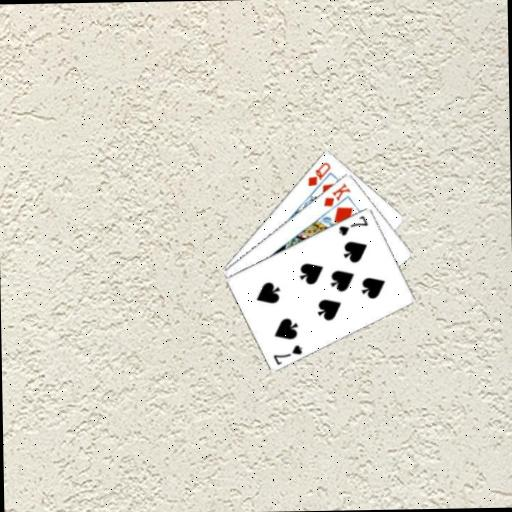7S: (336, 212, 370, 237), (270, 341, 304, 366)
KD: (321, 180, 353, 208)
QD: (304, 159, 332, 188)
